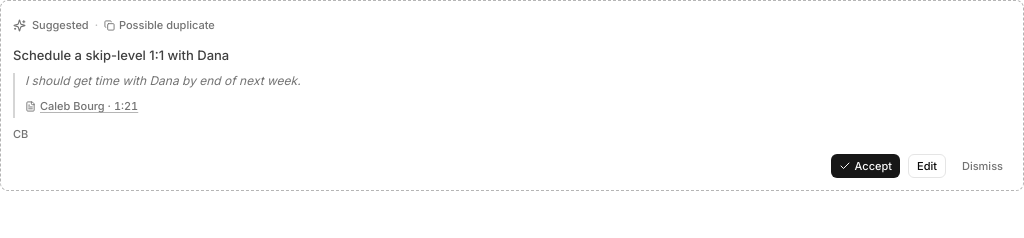
Scenario: possible duplicate on the card › cancels the confirm with the button or Escape
The image size is (1024, 238).
Click the button "Accept".
click(865, 166)  # box [831,154,900,178]
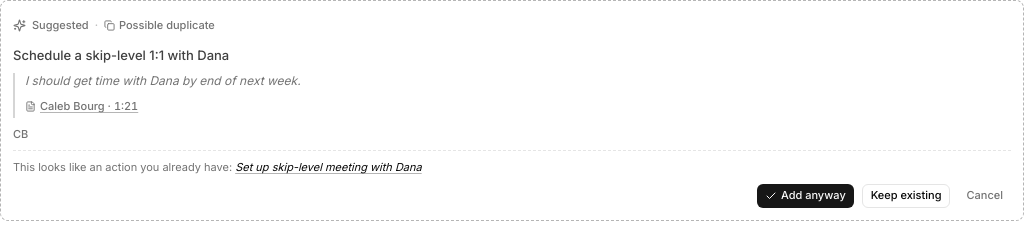
Click the button "Cancel".
click(985, 196)  # box [958,184,1011,208]
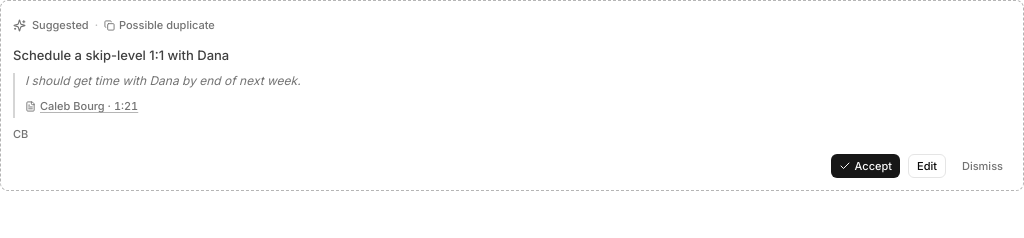
expect the element with test id "suggested-action-duplicate-confirm" is gone: met
expect the button "Accept" is shown: met
Click the button "Accept".
click(865, 166)  # box [831,154,900,178]
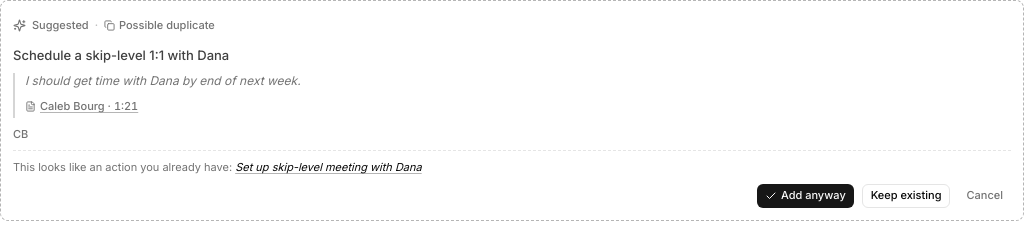
Press Escape
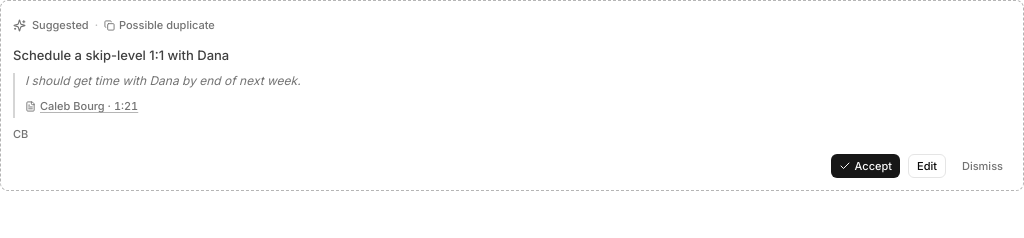
expect the element with test id "suggested-action-duplicate-confirm" is gone: met
